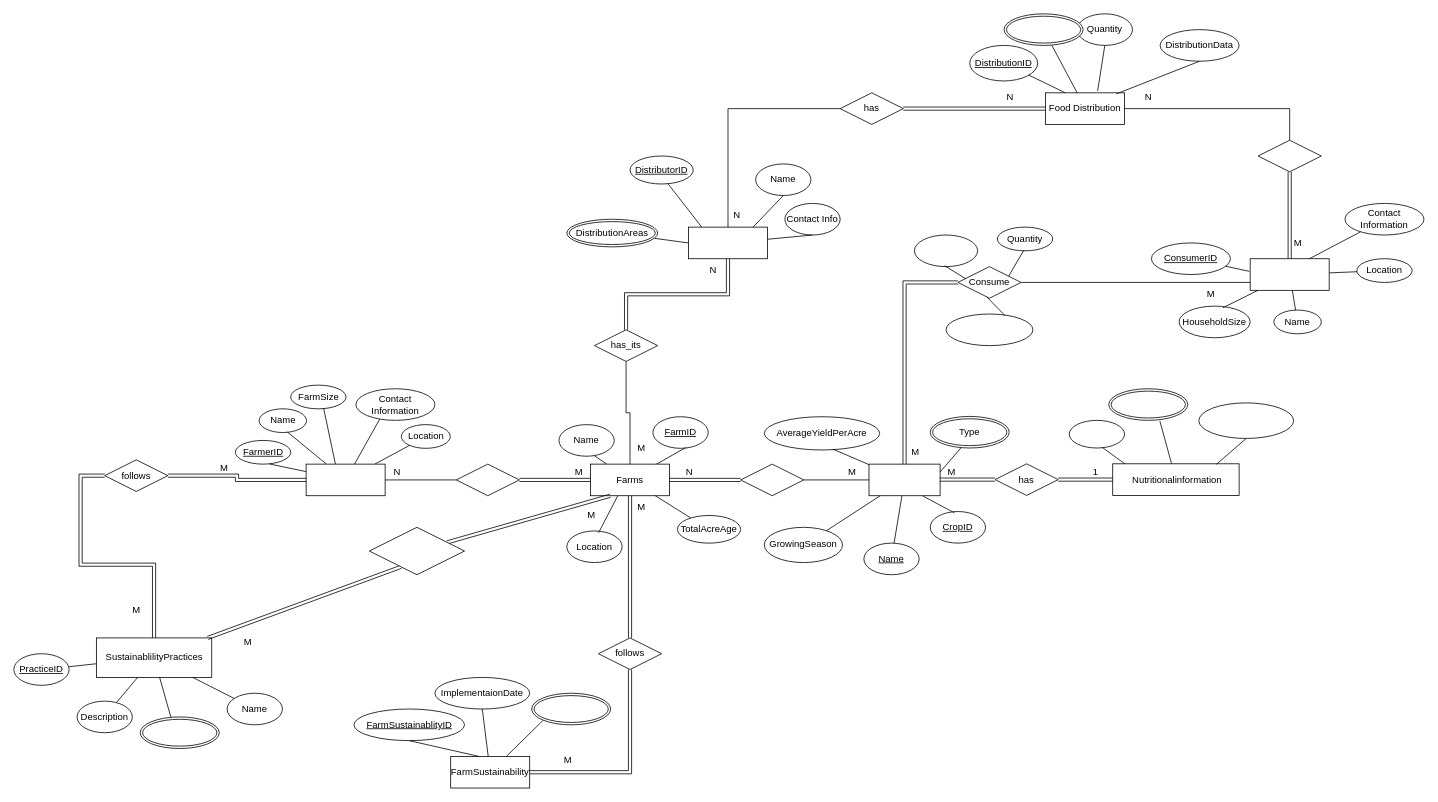
The diagram is 1438 pixels wide and 802 high, and some of its shapes have lost their labels. Here are the shapes that lost their labels. From the top down, the box of each, then its label:
(1003, 13, 1083, 45): Destinations
(1257, 139, 1321, 172): distributes
(688, 226, 767, 259): Distributors
(914, 234, 978, 267): ConsumptionID
(1249, 258, 1329, 290): Consumers
(945, 313, 1033, 346): ComsumptionDate
(1108, 388, 1188, 420): Nutrient
(1198, 402, 1294, 438): AmountPerServing
(1068, 420, 1125, 448): NutritionId
(305, 463, 385, 496): Farmers
(455, 463, 519, 496): Owns
(740, 463, 804, 496): Produces
(868, 463, 940, 496): Crops
(369, 527, 465, 575): implemented_by
(531, 692, 611, 725): Notes
(139, 716, 219, 749): Impact
